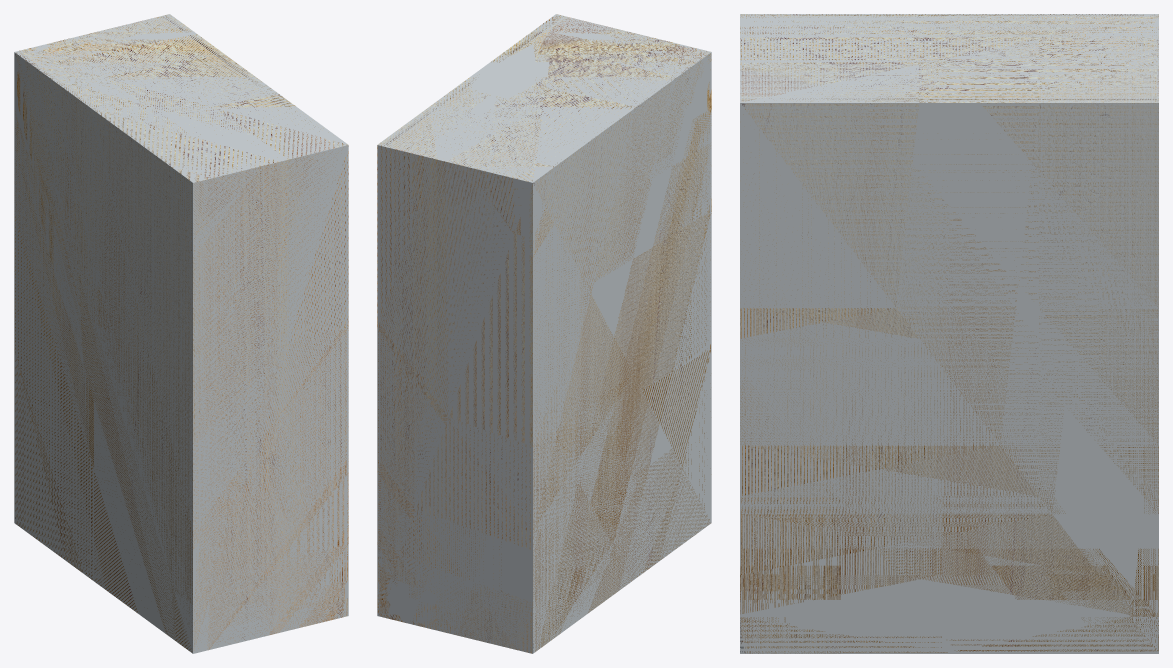
Rendered from damar_minyak.glb.
3 renders of one model, left to right at view 1: azimuth 30°, elevation 25°; view 2: azimuth 150°, elevation 25°; view 3: azimuth 270°, elevation 25°, orthographic. The views are drawn at different scales.
Parts seen in each view (by area): view 1: BackSide, FrontSide; view 2: BackSide, FrontSide; view 3: BackSide, FrontSide.
Boxes of the visible parts, left/top/right/bottom form: BackSide: left=14, top=14, right=348, bottom=653; FrontSide: left=14, top=15, right=348, bottom=651; BackSide: left=377, top=14, right=711, bottom=653; FrontSide: left=377, top=14, right=711, bottom=653; BackSide: left=740, top=14, right=1158, bottom=653; FrontSide: left=740, top=14, right=1158, bottom=653.
Size of the model in its own units: 1.06 by 3.08 by 2.12.
Materials: 4 (3 with a texture image).
